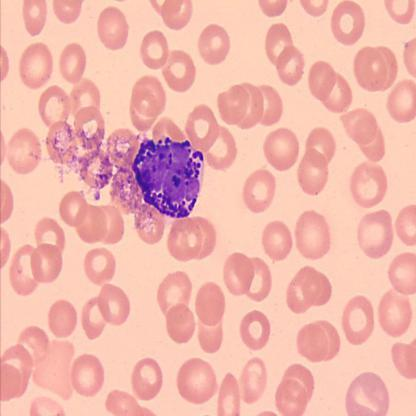Basophil: (130, 131, 204, 222)
